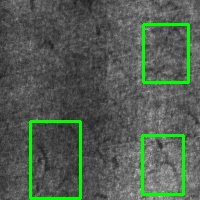crazing: (30, 121, 80, 198), (143, 25, 188, 82), (142, 135, 183, 194)
